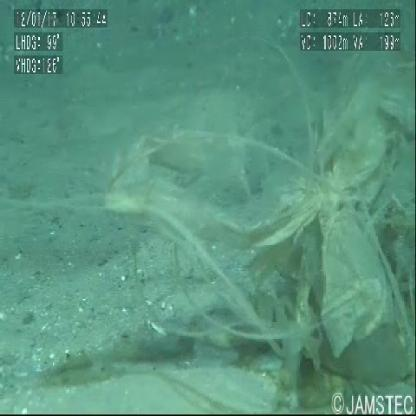Rác: (73, 103, 412, 393), (292, 3, 404, 63)
